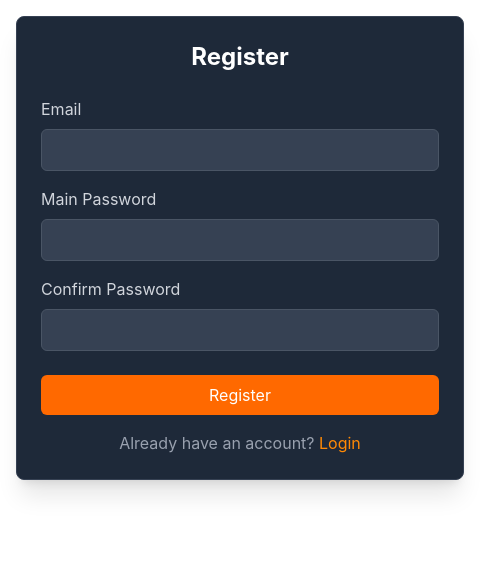
Test case: RegisterBox › shows default error message when error has no response
In the field labelled "Email": (240, 150) [41,129,439,171], type "mock@mock.com"
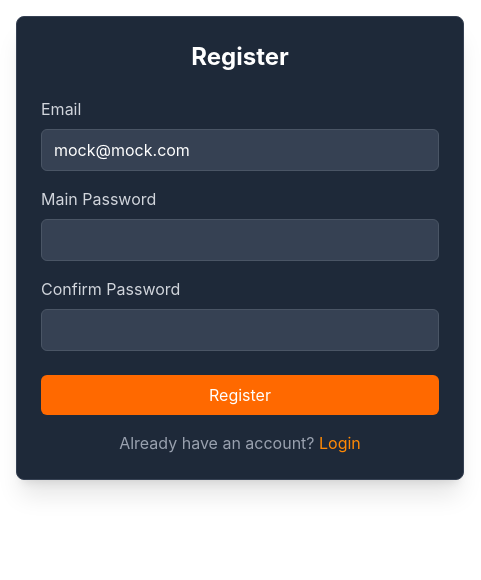
In the password field labelled "Main Password": (240, 240) [41,219,439,261], type "M0ck!123"
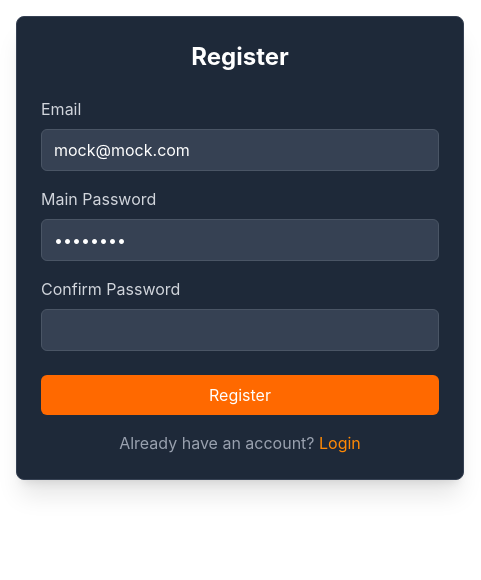
In the password field labelled "Confirm Password": (240, 330) [41,309,439,351], type "M0ck!123"
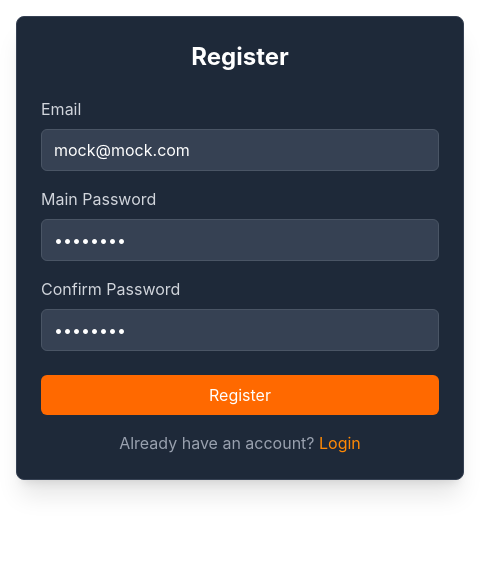
Click the button "Register": (240, 395) [41,375,439,415]
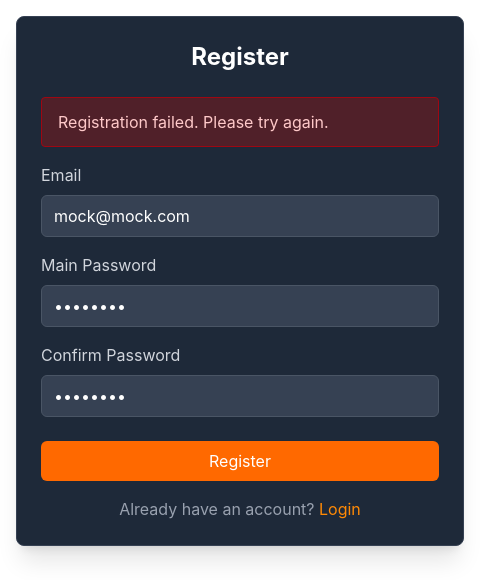
Now the text "Registration failed. Please try again." is shown, box [41,97,439,147]
